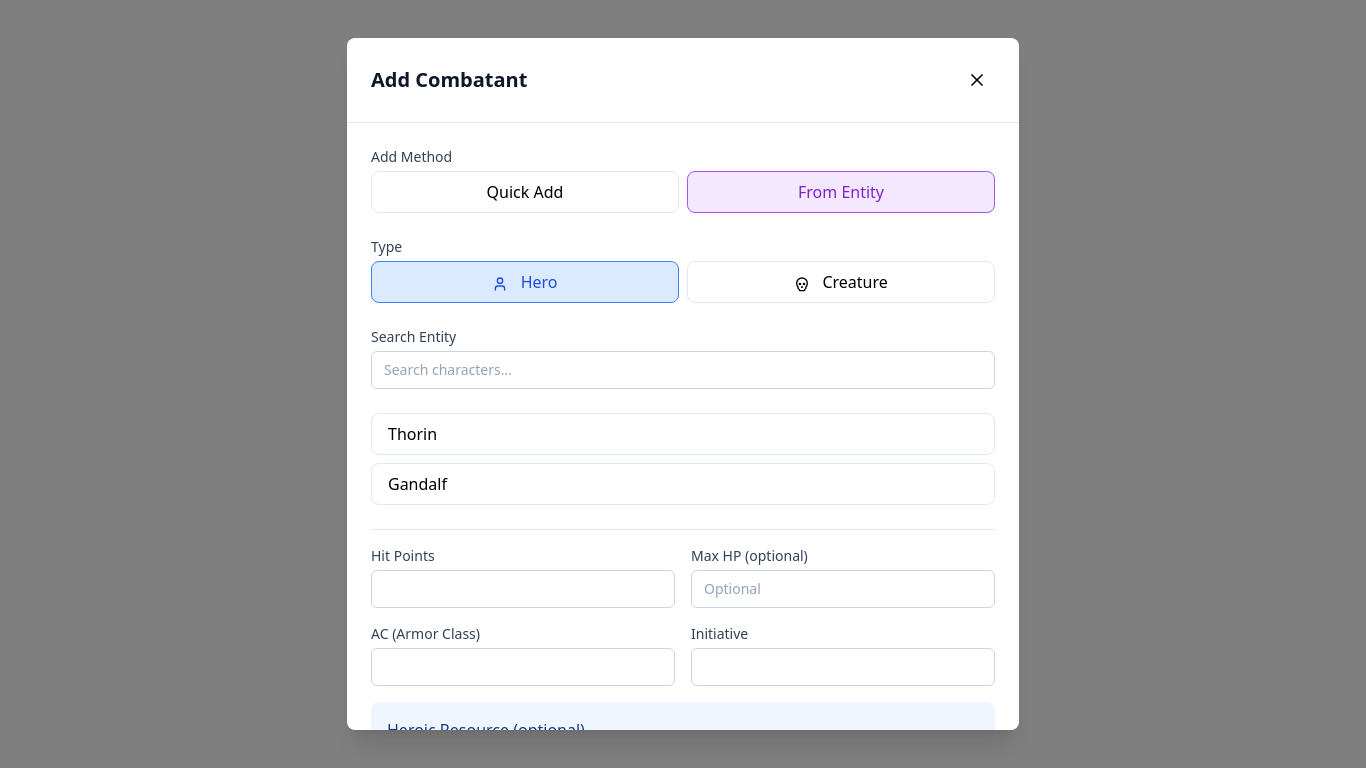
Test: AddCombatantModal - Entity Selection › should display NPC entities when Creature type is selected
The image size is (1366, 768).
Click the button "Creature" at (841, 282), box [687,261,995,303]
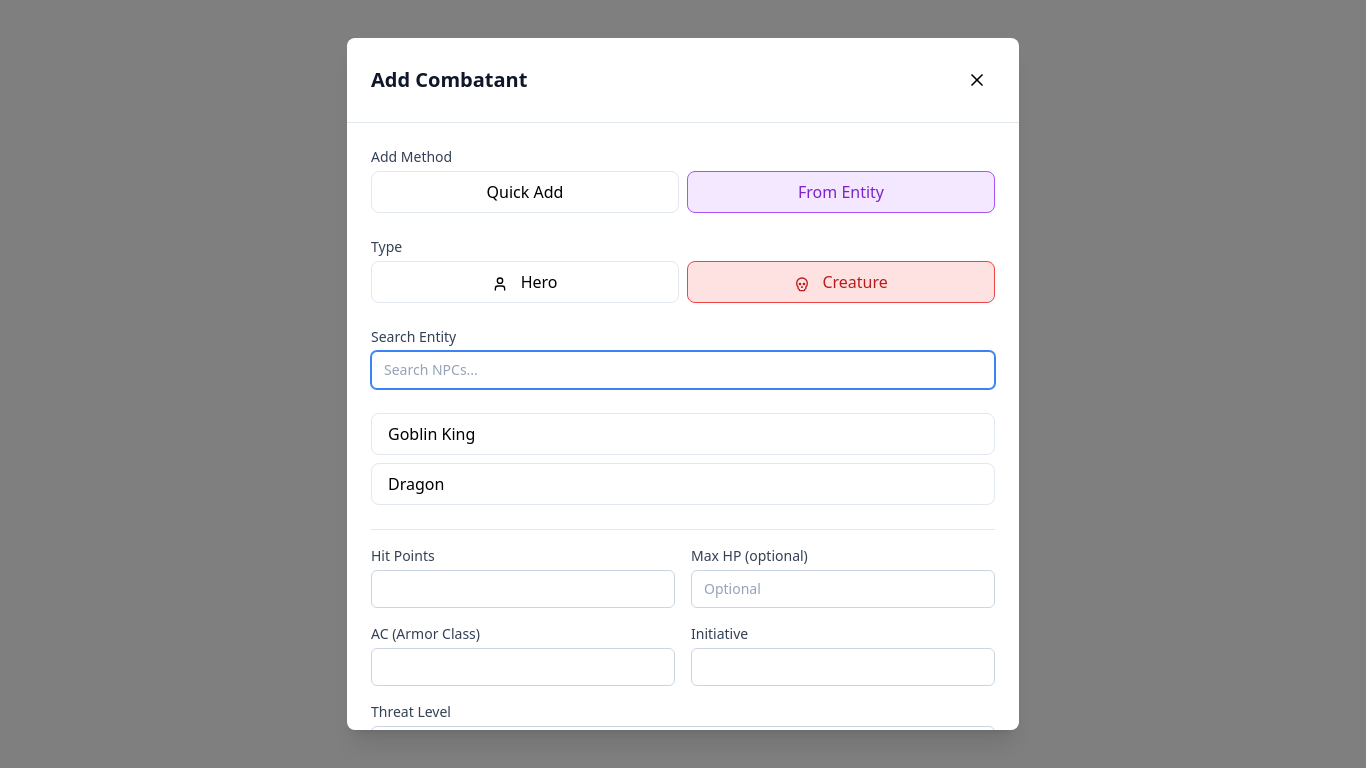
Now the button "Goblin King" is shown, box [371,413,995,455]
Now the button "Dragon" is shown, box [371,463,995,505]
